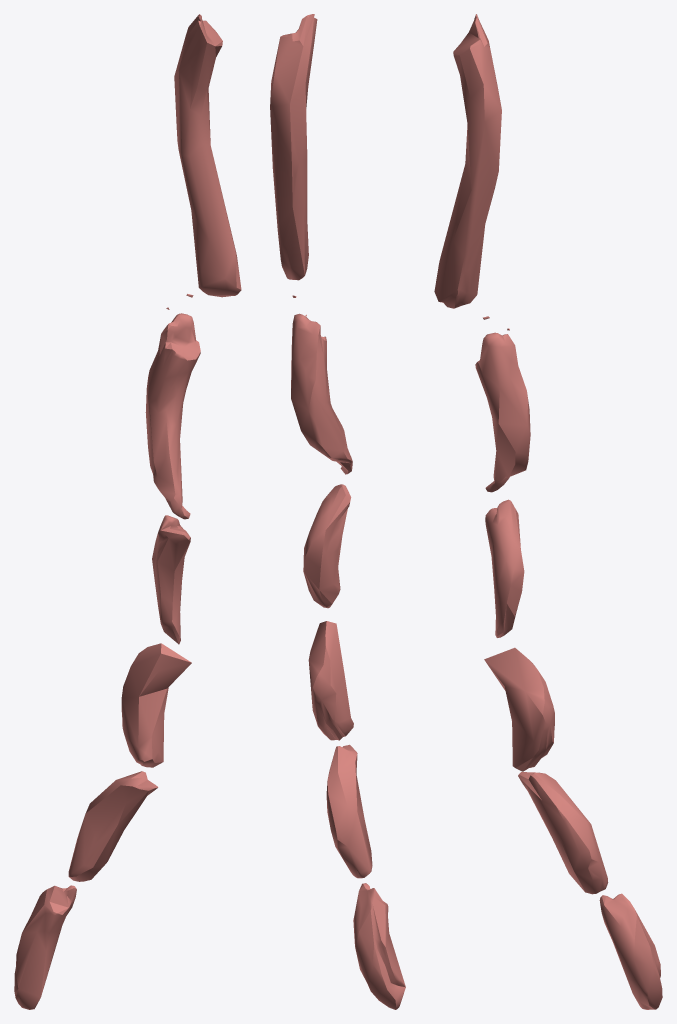
The model's file is fma71309_fj1552m.glb.
3 renders of one model, left to right at view 1: azimuth 90°, elevation 25°; view 2: azimuth 210°, elevation 25°; view 3: azimuth 270°, elevation 25°, orthographic. The views are drawn at different scales.
Parts seen in each view (by area): view 1: FMA71309_FJ1552M; view 2: FMA71309_FJ1552M; view 3: FMA71309_FJ1552M.
Part boxes in pixels (x1,y1,x2,y2): FMA71309_FJ1552M: (14, 14, 241, 1009); FMA71309_FJ1552M: (270, 14, 405, 1009); FMA71309_FJ1552M: (434, 14, 662, 1009).
Size of the model in its own units: 0.0078 by 0.0939 by 0.0195.
